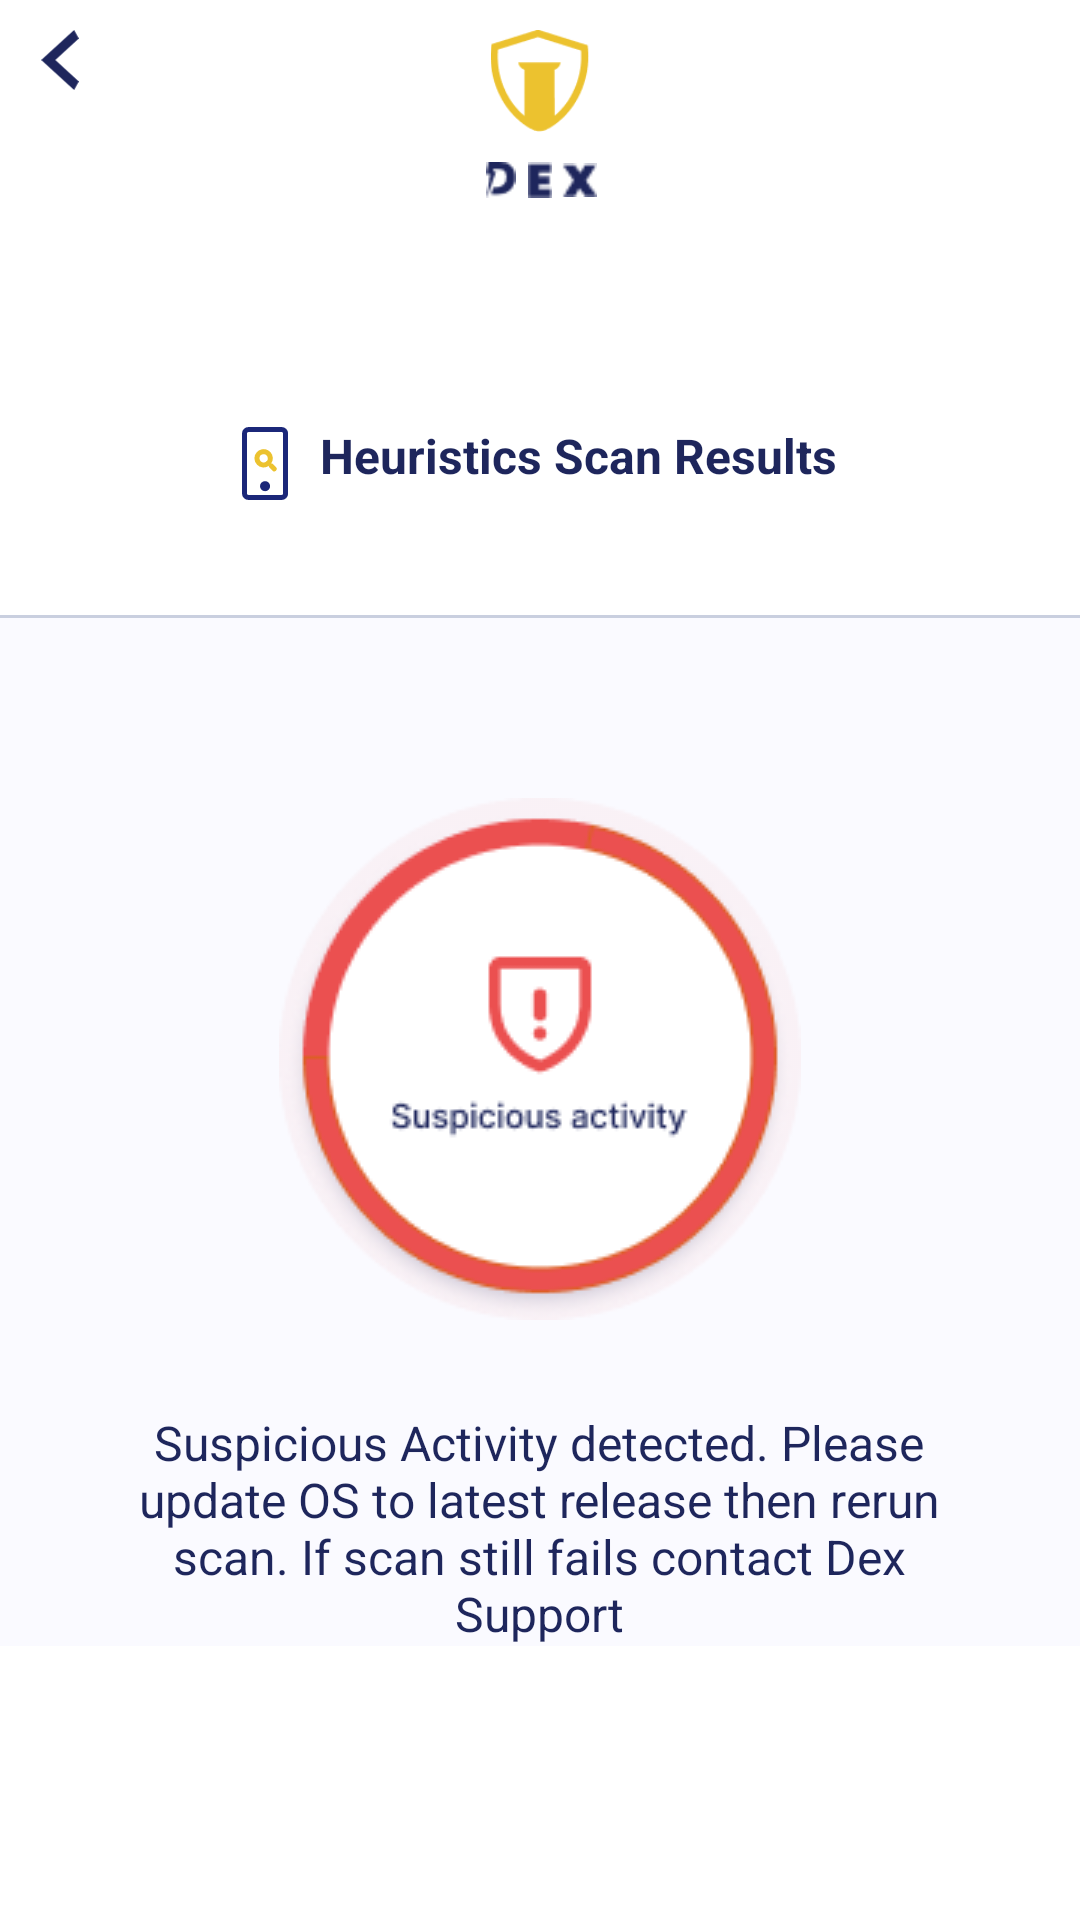

Screen size 1080px x 1920px. Icon name, then its center in pixels as (x,y):
back: (60,60)
scandevice: (265,463)
